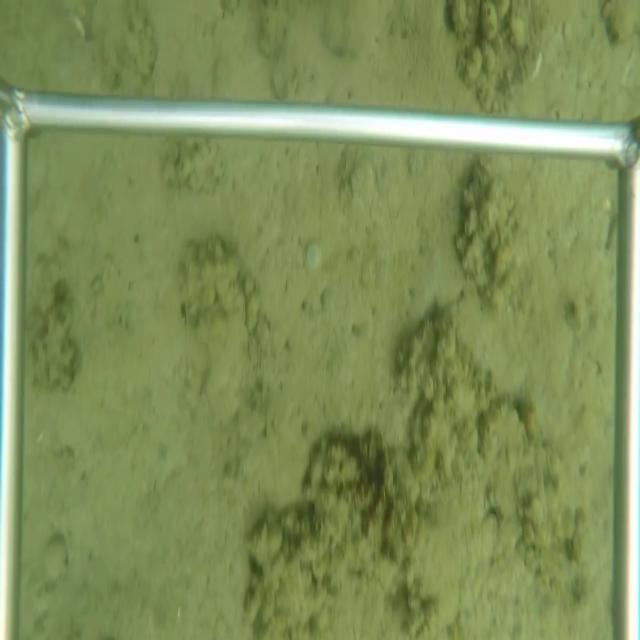Oyster-Indeterminate: (182, 236, 252, 425)
